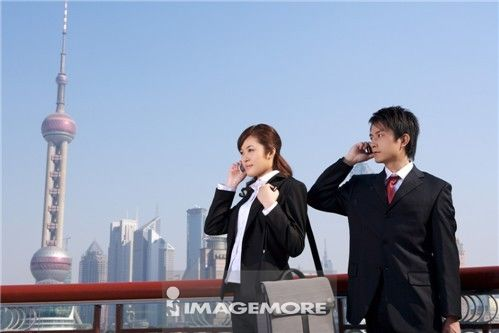talk: (351, 126, 397, 166), (229, 144, 263, 185)
